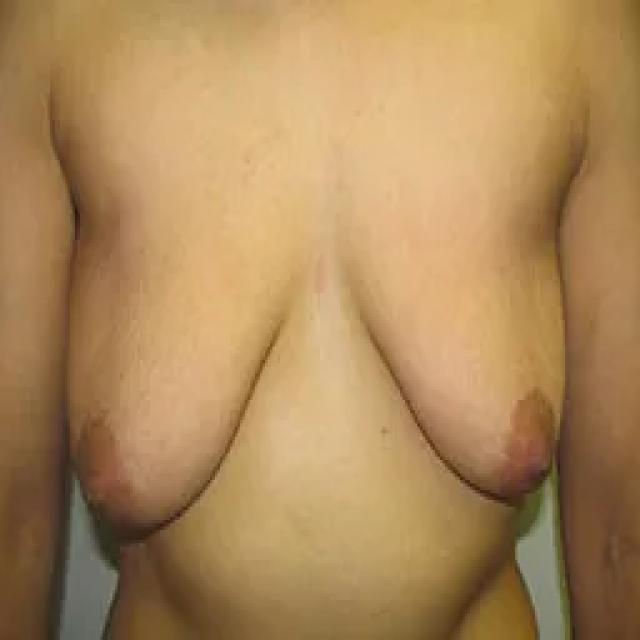Seno ileso: (56, 134, 309, 566), (330, 116, 576, 534)
